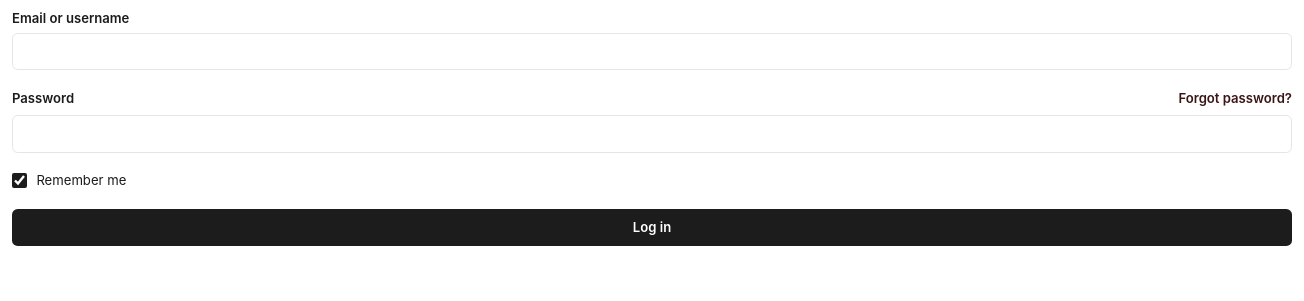
Test: LoginForm › should replace the verify message after a later wrong password
Type "user@example.com" into the field labelled "Email or username". click: (652, 51)
box: [12,33,1292,70]
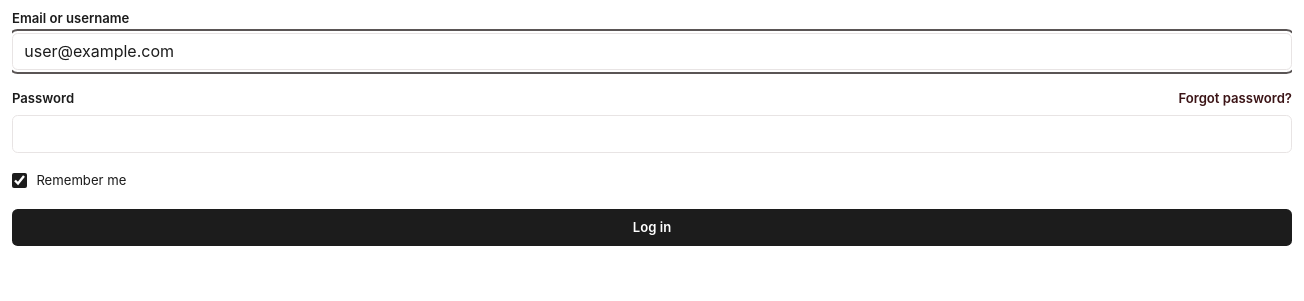
Type "opensesame" into the password field labelled "Password". click: (652, 134)
box: [12,115,1292,153]
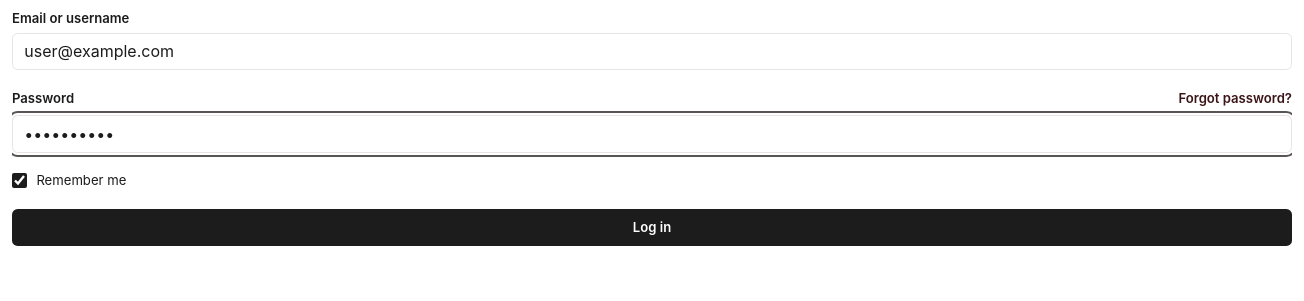
Click the button "Log in". click: (652, 228)
box: [12,209,1292,246]
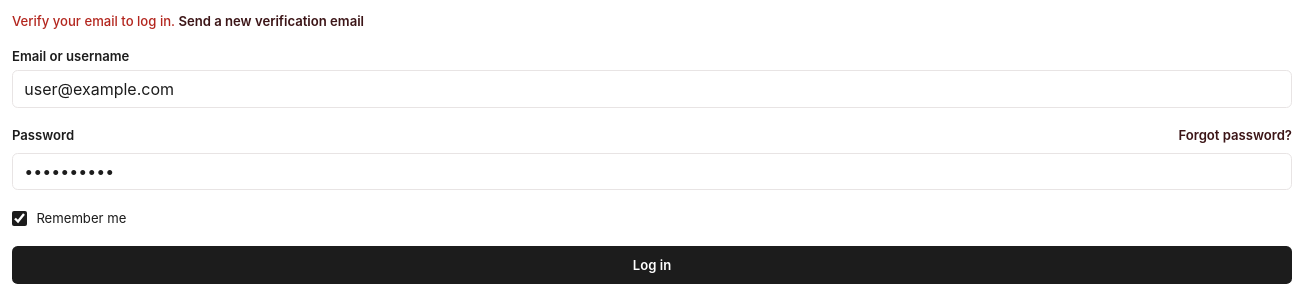
Check: the message shows "Verify your email to log in.", box [12,13,175,29]
Click the button "Log in". click: (652, 265)
box: [12,246,1292,284]
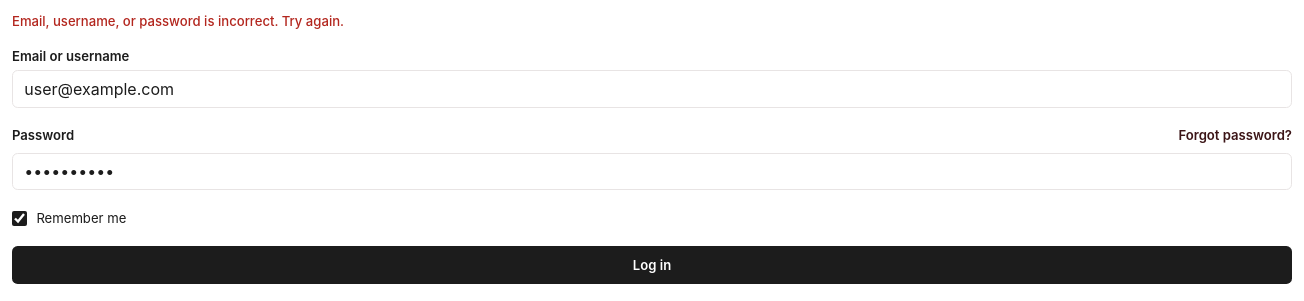
Check: the message reads "Email, username, or password is incorrect. Try again.", box [12,13,344,29]
Check: the link "Send a new verification email" is gone
